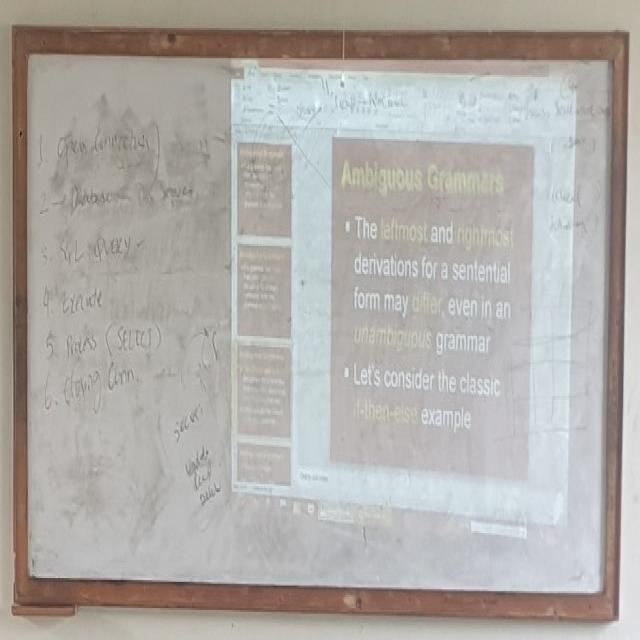Slide: (229, 46, 577, 558)
White-board: (19, 38, 627, 608)
